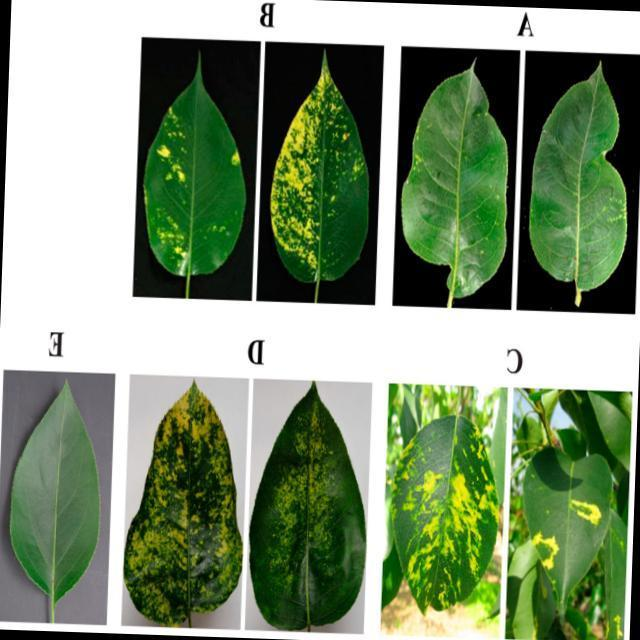Healthy Leaf: (0, 378, 106, 608)
Mosaic Virus: (124, 404, 240, 615), (254, 408, 362, 620), (270, 66, 370, 294), (391, 408, 500, 612), (140, 86, 244, 278), (524, 466, 610, 596)
